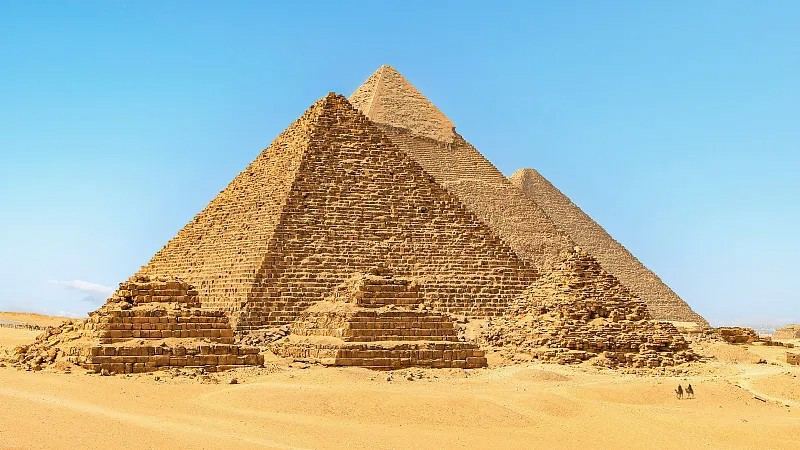Pyramid: (134, 94, 542, 341), (347, 65, 577, 276), (509, 167, 712, 330), (492, 252, 702, 368), (273, 262, 491, 371), (53, 276, 265, 371)
